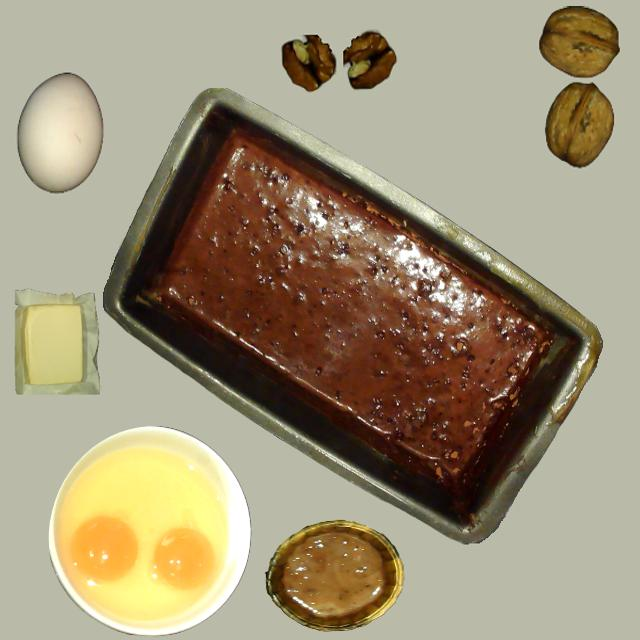Egg: (70, 515, 137, 583), (152, 528, 214, 590)
Walnut: (545, 83, 613, 168), (540, 5, 618, 78)
